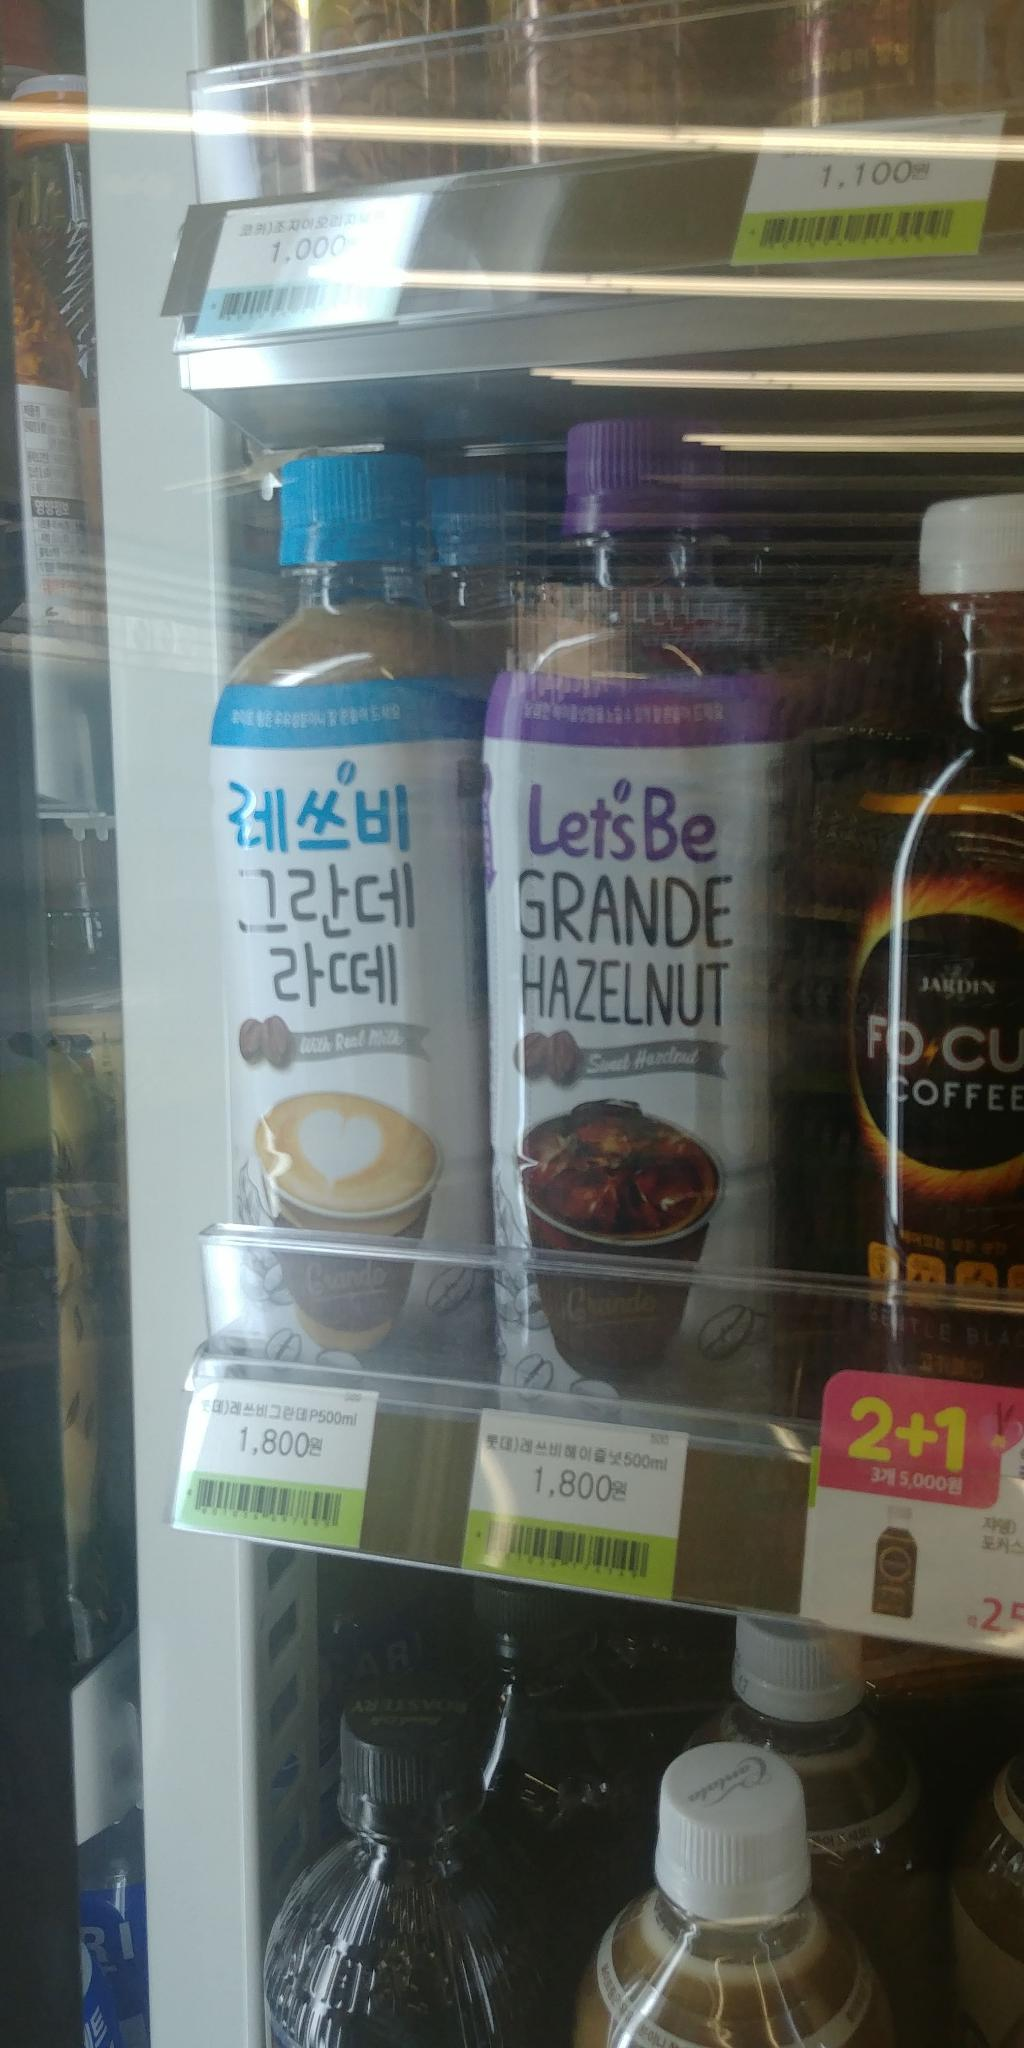letsbe_grande_hazelnut: (466, 410, 836, 1473)
